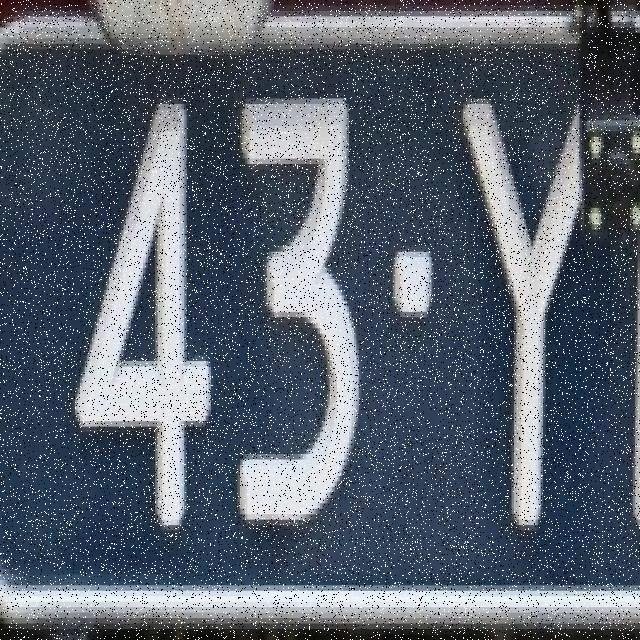licenseplate: (1, 13, 640, 630)
